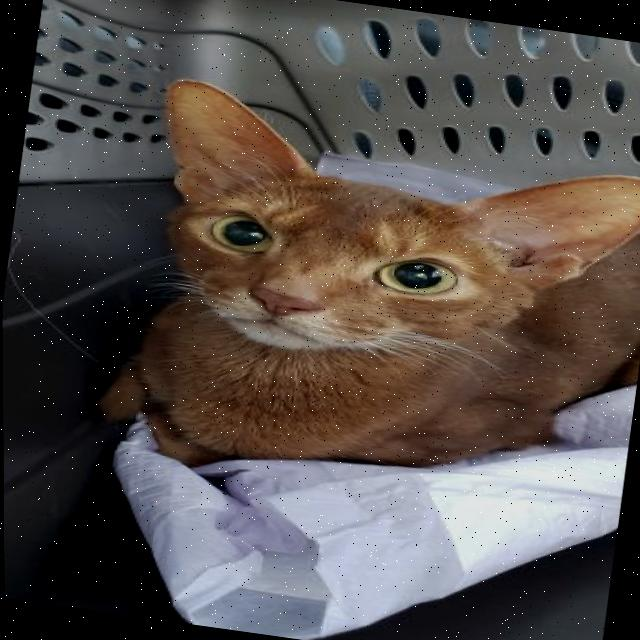Abyssinian: (54, 61, 640, 533)
